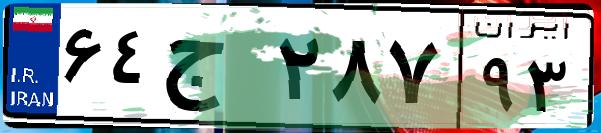2: (270, 28, 330, 110)
3: (525, 38, 570, 115)
4: (110, 28, 158, 98)
6: (57, 26, 110, 100)
7: (385, 28, 445, 110)
8: (330, 28, 385, 110)
9: (475, 38, 525, 113)
ج: (158, 20, 270, 120)
